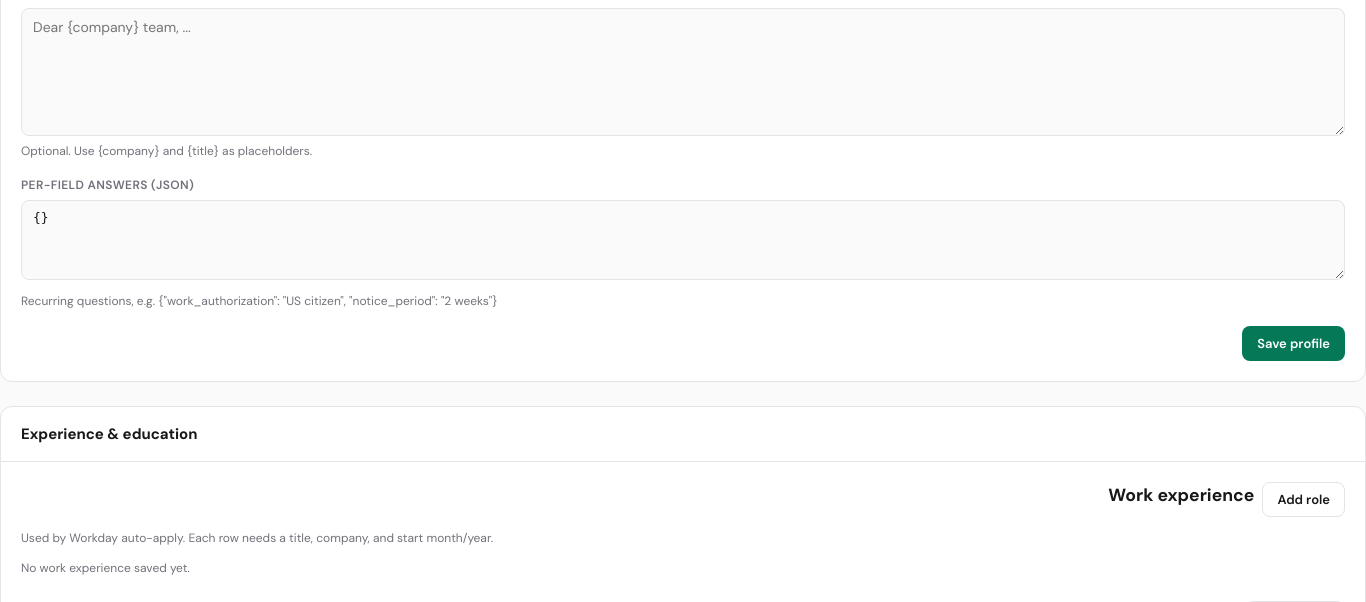
Test: ProfilePage › surfaces an error when saving fails
The image size is (1366, 602).
(page scrolled)
What coordinates should you click on to do the following:
click the button "Save profile"
I would click on:
 (1294, 343)
Its box is [1242, 326, 1345, 360].
(page scrolled)
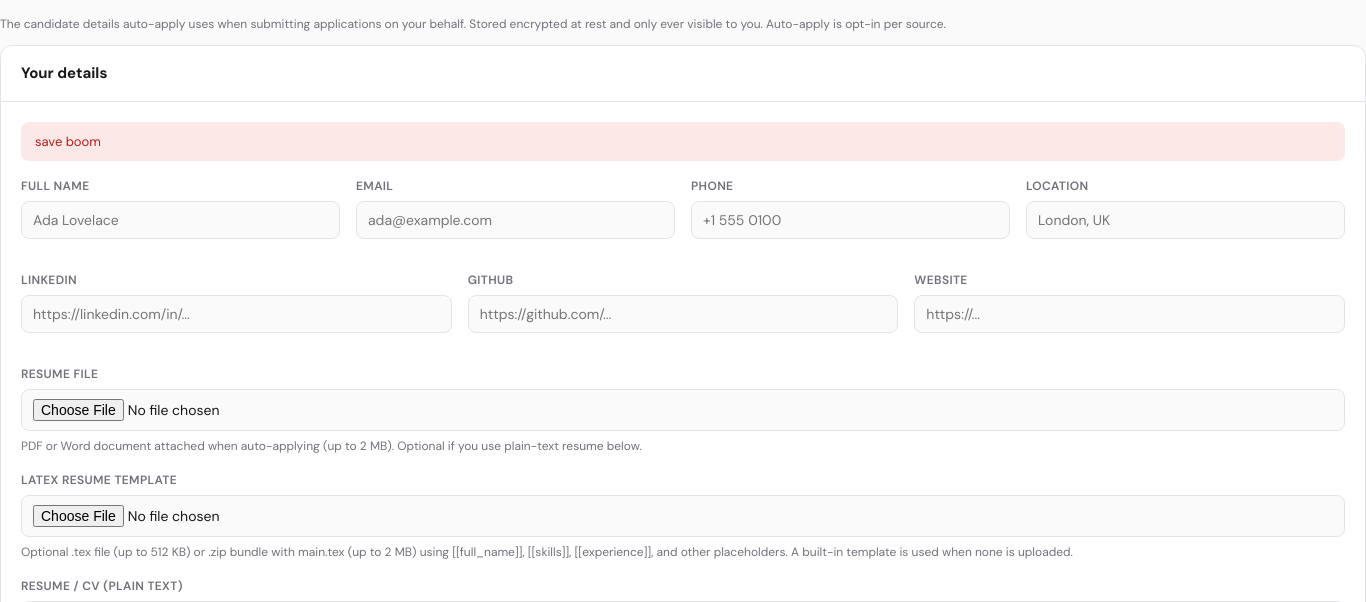
expect the text "save boom" is shown: met, box [21, 122, 1345, 161]
